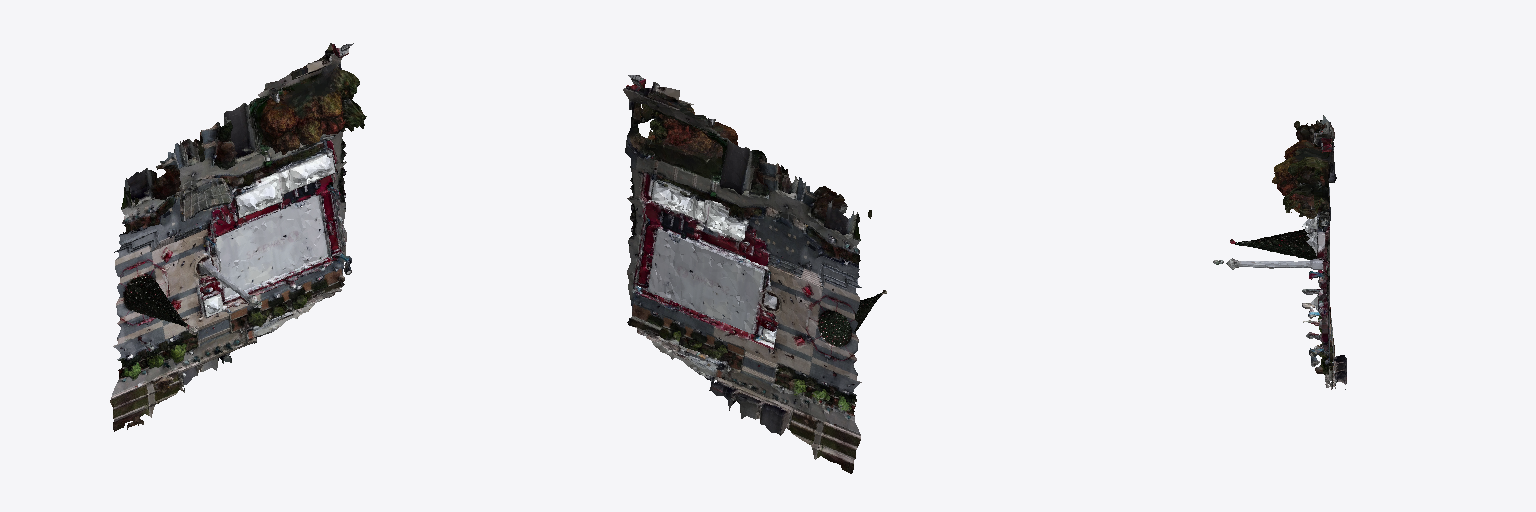
The picture shows the model from 3 angles: view 1: azimuth 30°, elevation 25°; view 2: azimuth 150°, elevation 25°; view 3: azimuth 270°, elevation 25°; orthographic projection.
Bounding box in the file's own units: 67.77 × 91.78 × 32.76.
Materials: 1 (1 with a texture image).